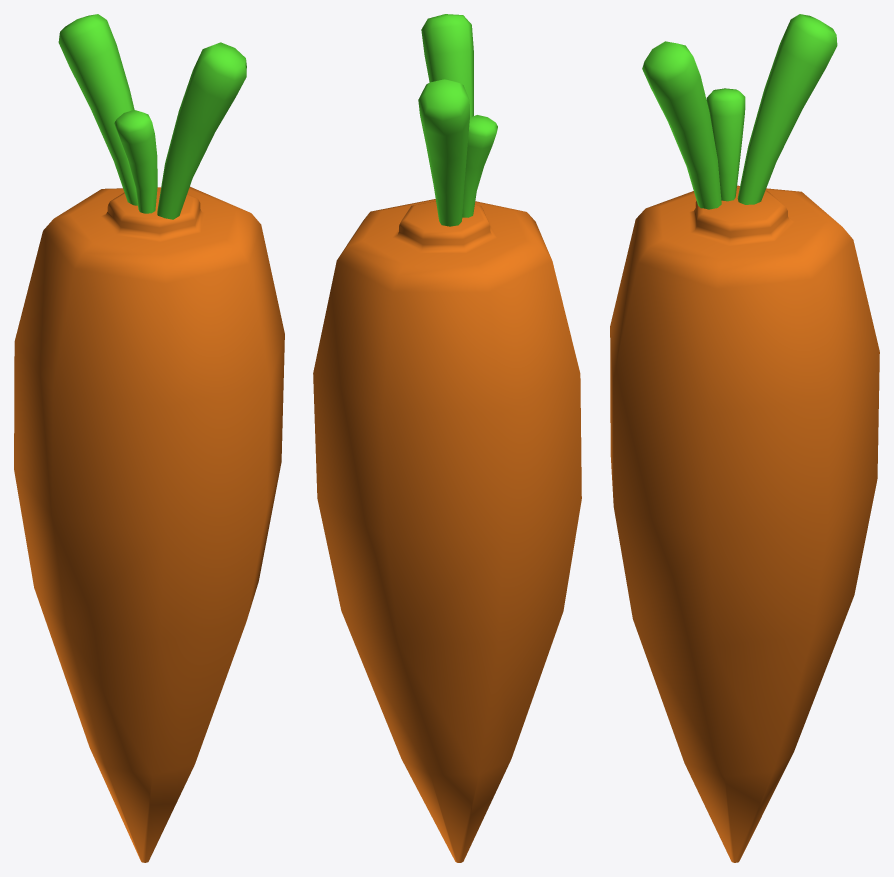
Rendered from Carrot.fbx.
3 views of the same model, side by side, from view 1: azimuth 30°, elevation 25°; view 2: azimuth 150°, elevation 25°; view 3: azimuth 270°, elevation 25° (orthographic). The views are drawn at different scales.
Visible parts, largest first — view 1: Carrot; view 2: Carrot; view 3: Carrot.
Boxes of the visible parts, x1=… form: Carrot: x1=14, y1=14, x2=284, y2=862; Carrot: x1=313, y1=14, x2=581, y2=862; Carrot: x1=610, y1=14, x2=879, y2=862.
Bounding box in the file's own units: 68.35 × 229 × 66.7.
